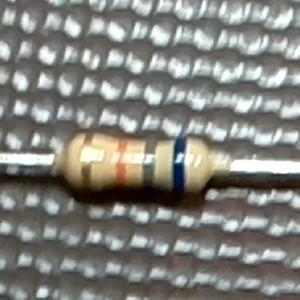blue_band: (169, 134, 189, 195)
gold_band: (76, 130, 97, 197)
grey_band: (136, 135, 162, 192)
orange_band: (111, 134, 131, 192)
